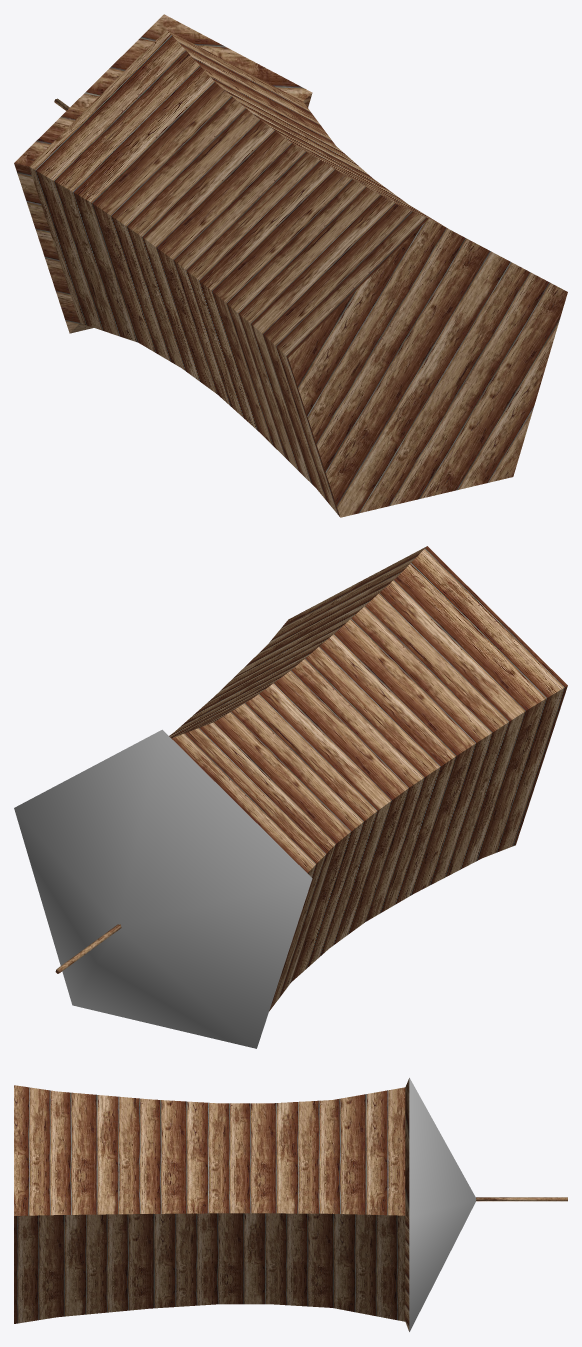
Rendered from tower.fbx.
3 views of the same model, one above another, from view 1: azimuth 30°, elevation 25°; view 2: azimuth 150°, elevation 25°; view 3: azimuth 270°, elevation 25° (orthographic). The views are drawn at different scales.
Parts seen in each view (by area): view 1: Tower; view 2: Tower; view 3: Tower.
Boxes of the visible parts, x1,y1,x2,y2 form: Tower: (14, 14, 567, 517); Tower: (14, 546, 567, 1048); Tower: (14, 1077, 567, 1331).
Size of the model in its own units: 6.52 by 6.22 by 14.04.
